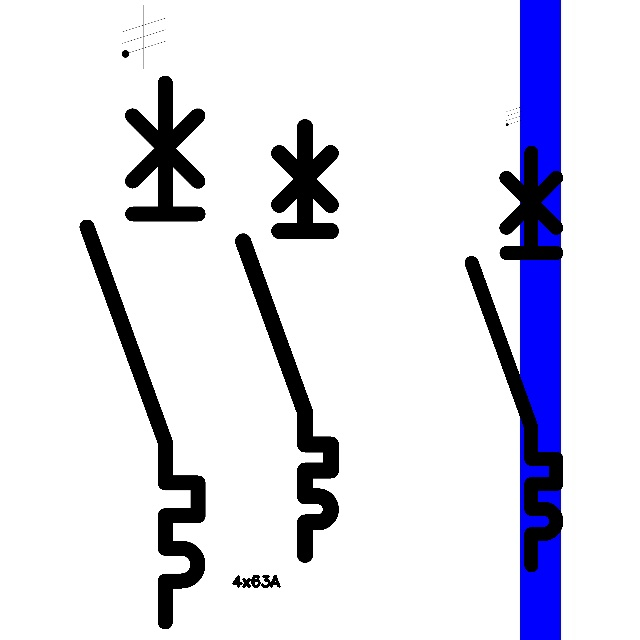interruptor_termomagnetico: (73, 69, 212, 636), (232, 116, 342, 566), (461, 142, 567, 576)
